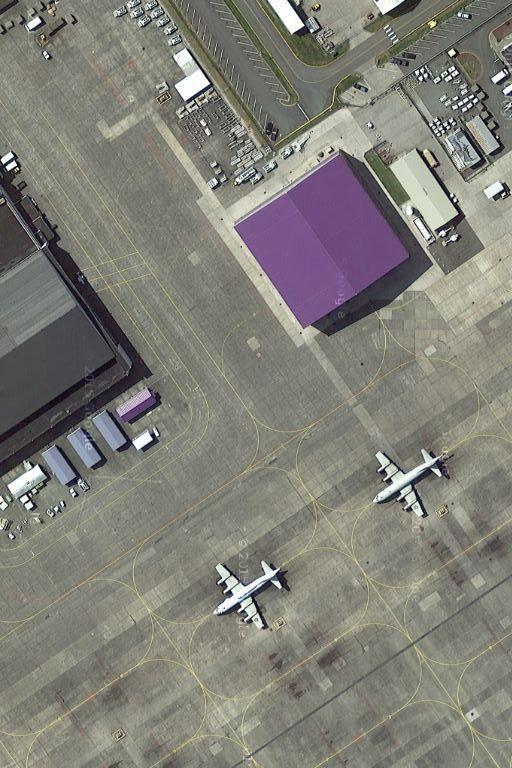EP-3: (210, 554, 285, 634)
P-3C: (367, 441, 448, 523)
